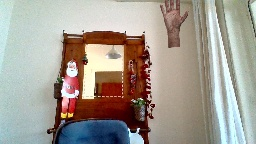Mano_aperta: (158, 0, 191, 33)
